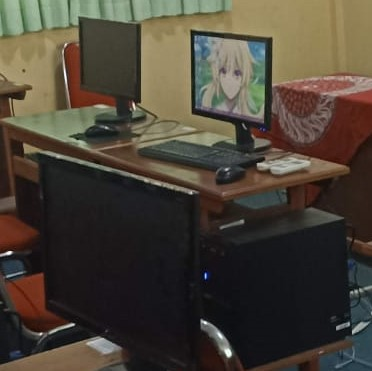monitor: (36, 152, 206, 365), (190, 29, 273, 153), (78, 16, 142, 105)
